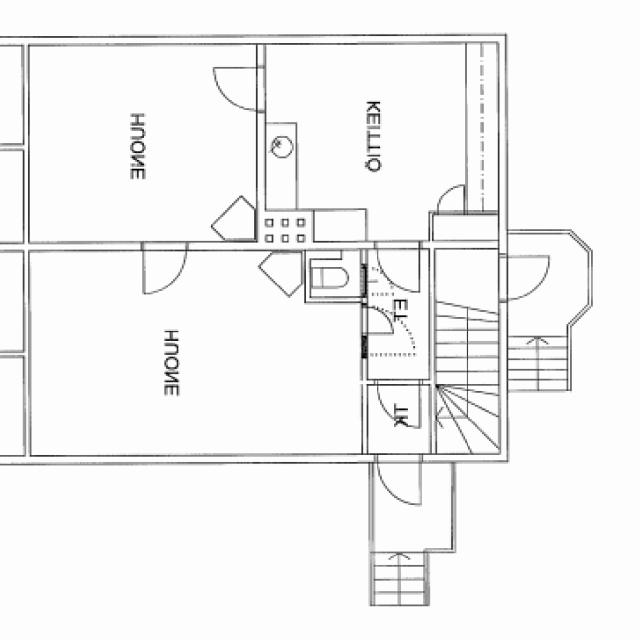door: (376, 453, 422, 507), (499, 255, 553, 300), (362, 307, 414, 353), (143, 241, 187, 294), (213, 68, 266, 111), (377, 242, 420, 292), (378, 381, 420, 427), (362, 266, 396, 294), (438, 184, 464, 215)
